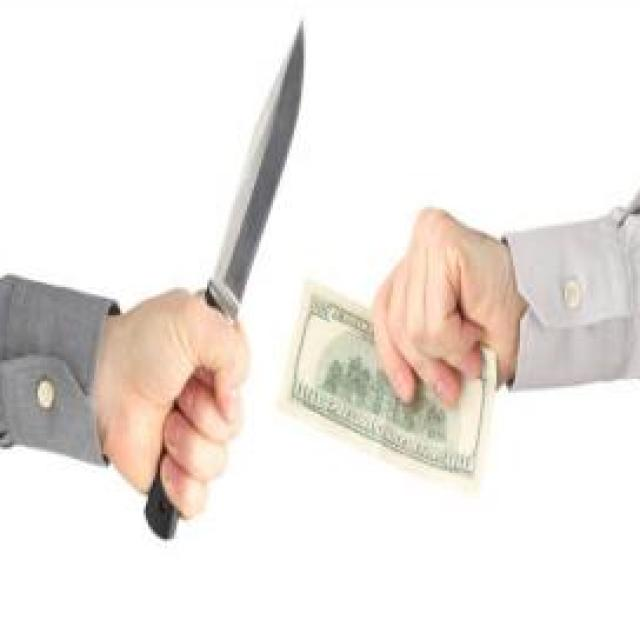knife: (142, 14, 304, 544)
